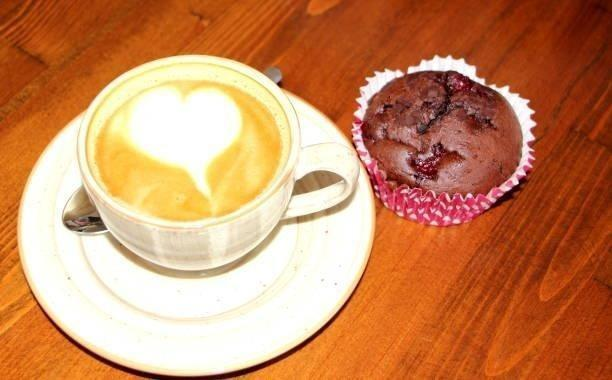cup-handle: (60, 53, 360, 276)
